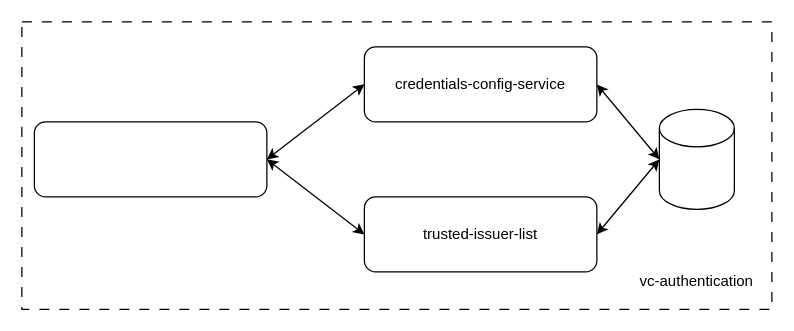
The diagram is 794 pixels wide and 331 high, and some of its shapes have lost their labels. Each missing label, with the box of its shape:
SQL: (658, 108, 734, 209)
verifier: (33, 121, 267, 197)
